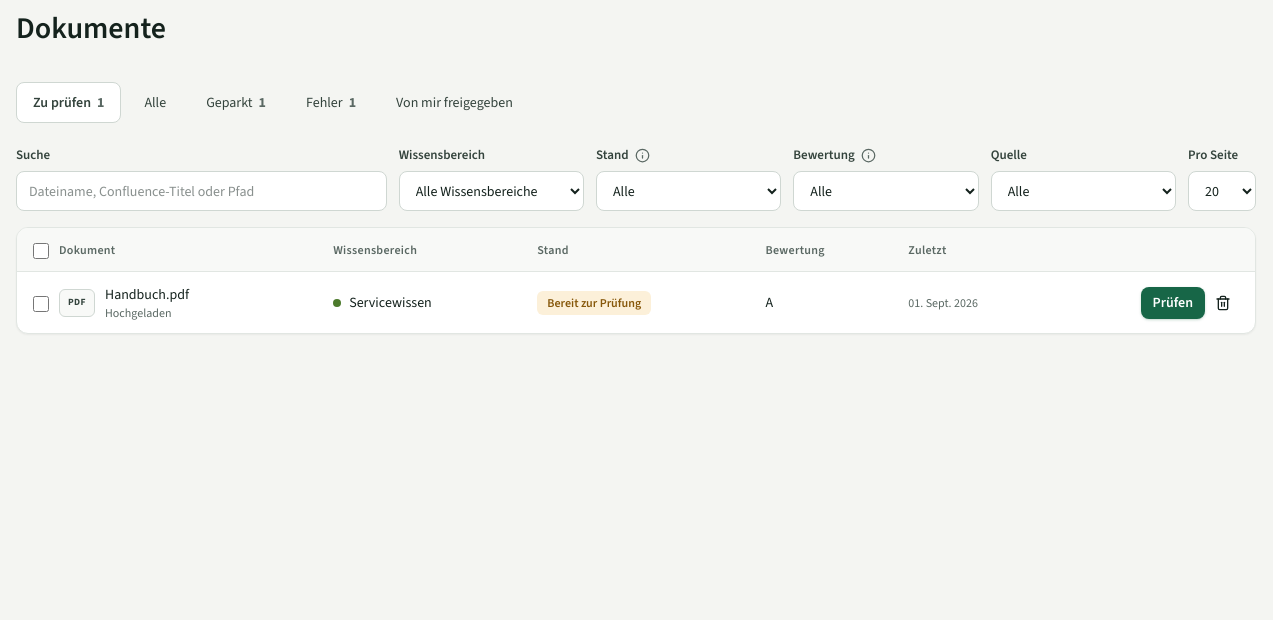
explains the statuses and "Ohne Bewertung"
Expected: the text "Handbuch.pdf" is shown, [105,285,189,304]
Expected: the link "Technische Details" is not shown
Click the button named "Was bedeuten die Stände?" at (642, 156), box [632,146,652,165]
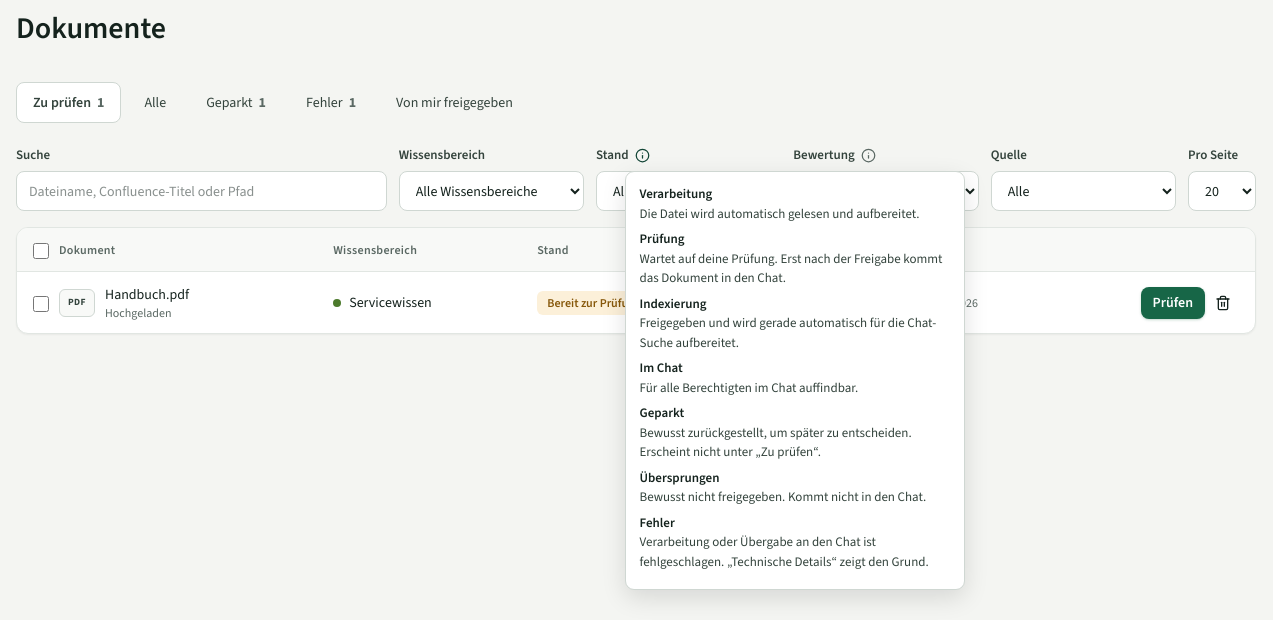
Result: the tooltip shows "Bewusst zurückgestellt" at [640,424,912,460]
Leave the button named "Was bedeuten die Stände?", box [632,146,652,165]
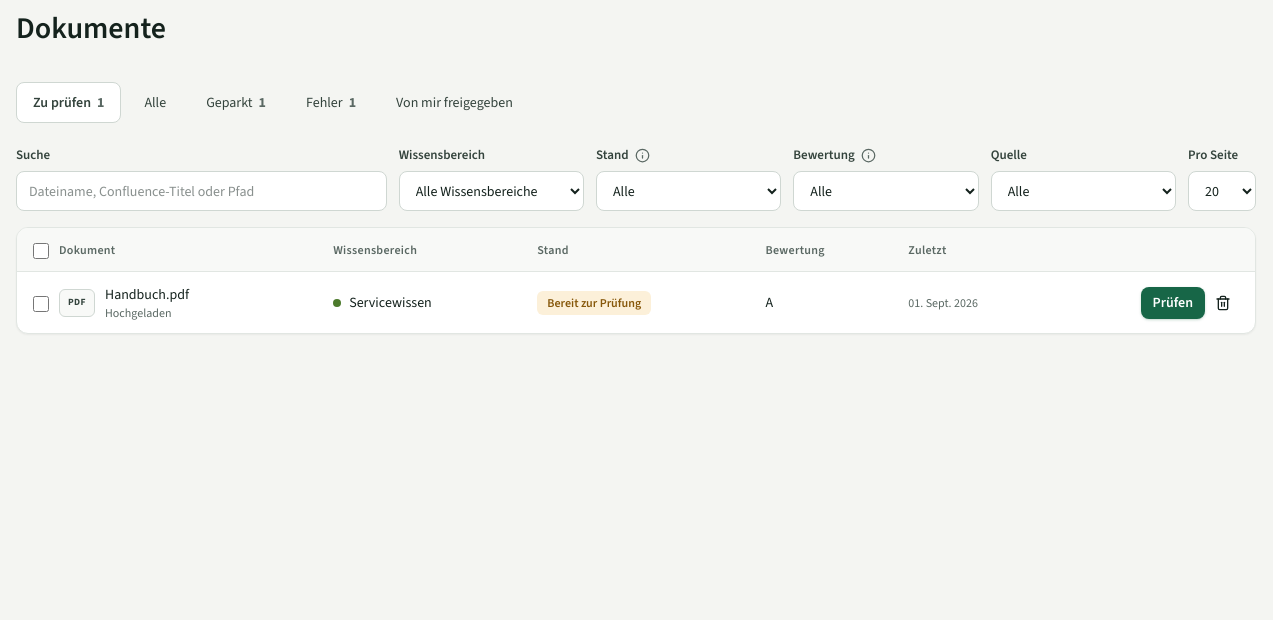
Click the button named "Was bedeuten die Qualitätsstufen?" at (868, 156), box [859,146,878,165]
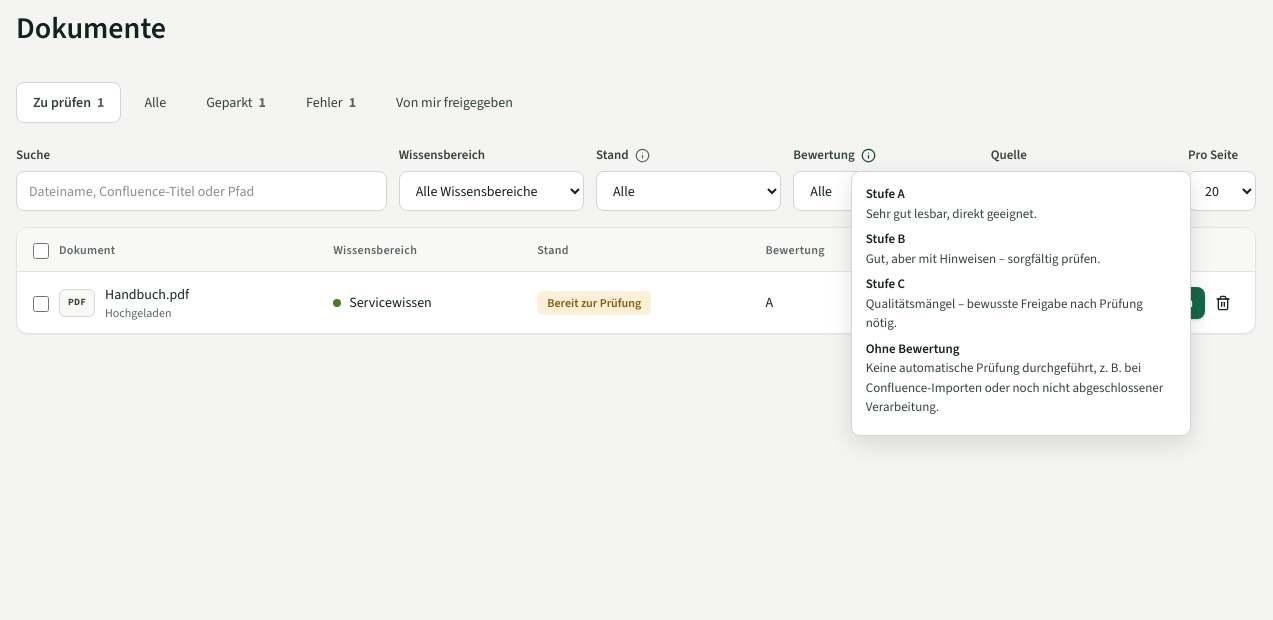
Result: the tooltip shows "Keine automatische Prüfung durchgeführt" at [866,359,1163,415]
